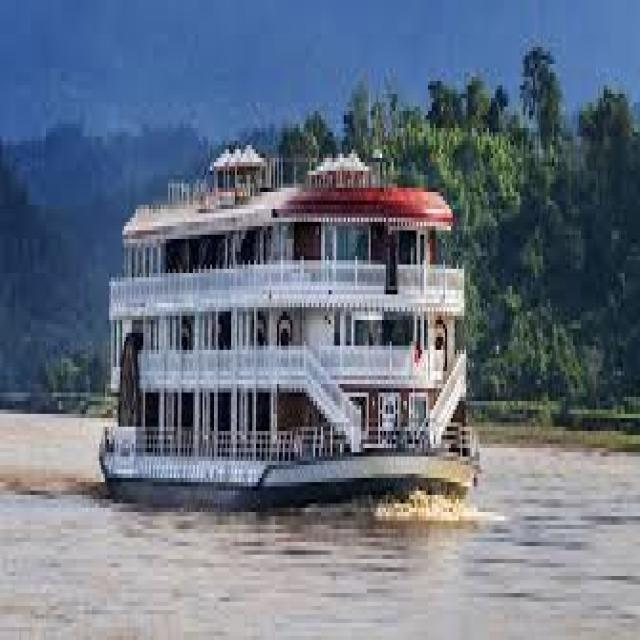houseboat: (95, 86, 490, 506)
